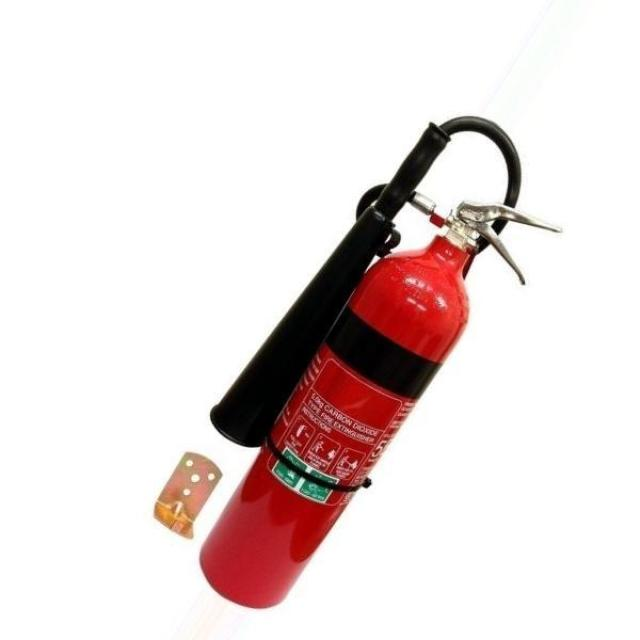fire_extinguisher: (189, 107, 565, 613)
